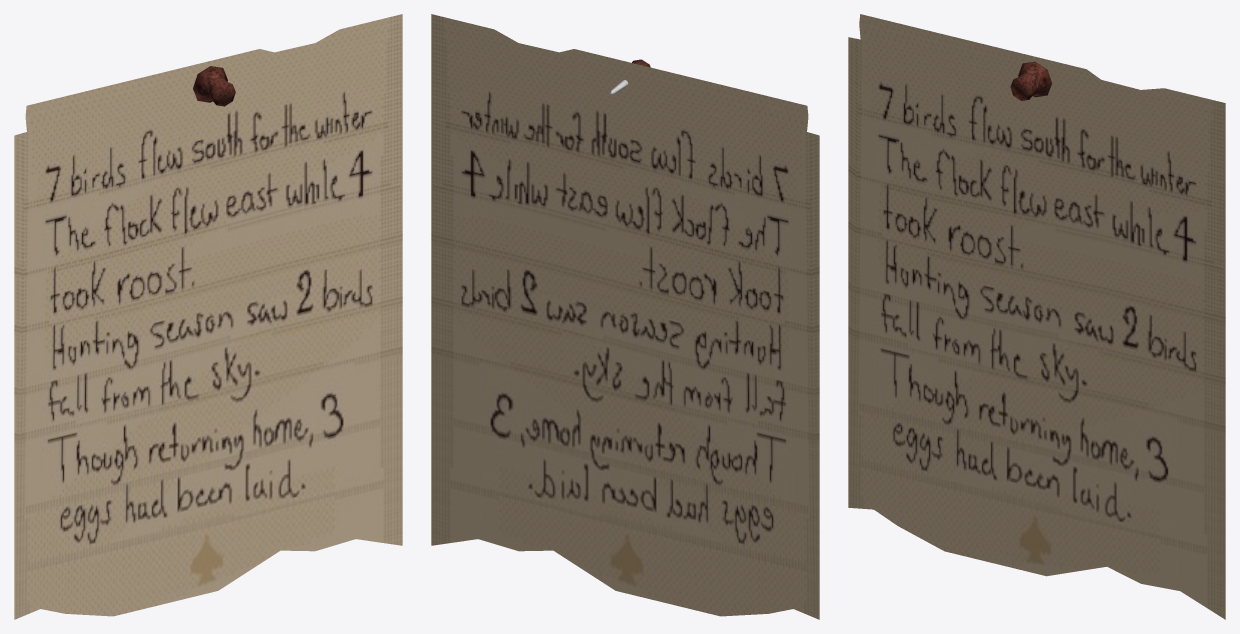
File: Riddle.fbx
The picture shows the model from 3 angles, left to right: view 1: azimuth 30°, elevation 25°; view 2: azimuth 150°, elevation 25°; view 3: azimuth 330°, elevation 25°; orthographic projection. The views are drawn at different scales.
Visible parts, largest first — view 1: Riddle; view 2: Riddle; view 3: Riddle.
Boxes of the visible parts, box(x1,y1,x2,y2) form: Riddle: box(14, 14, 402, 619); Riddle: box(431, 14, 819, 619); Riddle: box(848, 14, 1225, 619).
Bounding box in the file's own units: 153 × 200 × 21.71.
